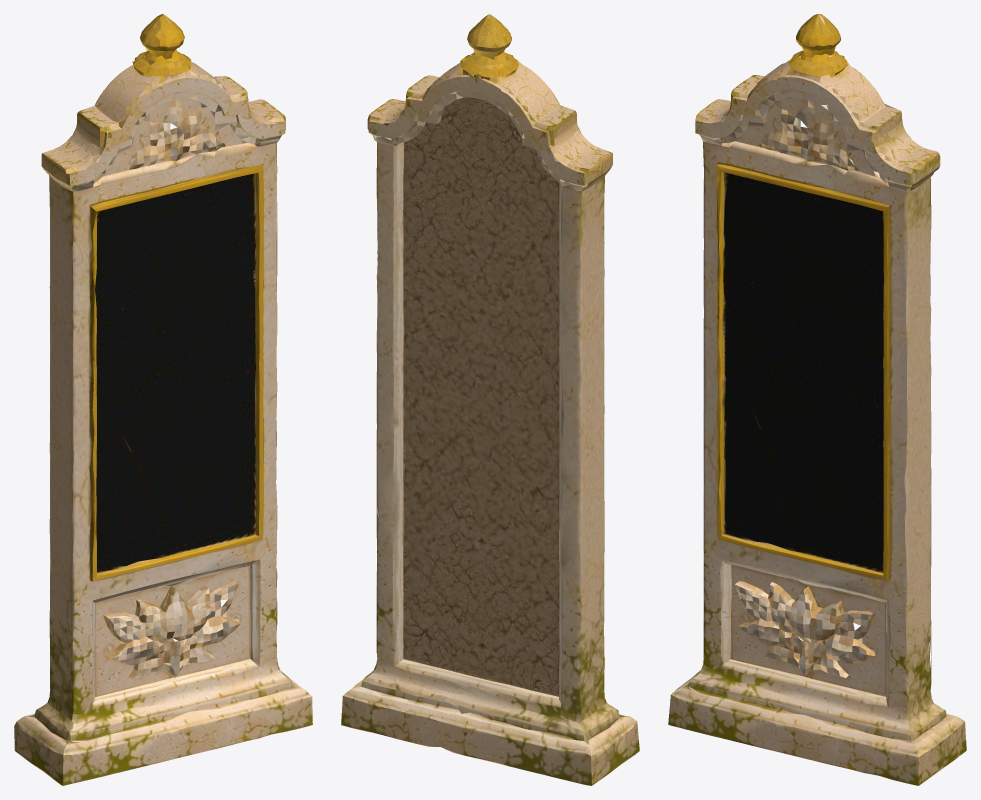
File: totem.glb
The picture shows the model from 3 angles, left to right: view 1: azimuth 30°, elevation 25°; view 2: azimuth 150°, elevation 25°; view 3: azimuth 330°, elevation 25°; orthographic projection.
Visible parts, largest first — view 1: mesh_0; view 2: mesh_0; view 3: mesh_0.
Part boxes in pixels (x1,y1,x2,y2): mesh_0: (14,14,312,785); mesh_0: (341,14,639,785); mesh_0: (668,14,966,785).
Size of the model in its own units: 0.6904 by 1.9 by 0.2323.
Materials: 1 (1 with a texture image).
